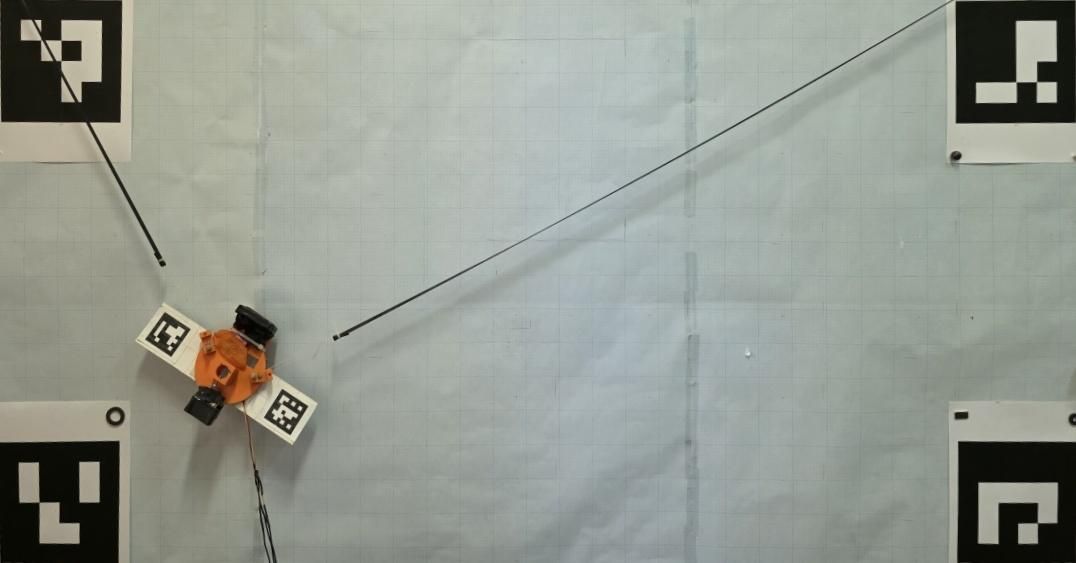robot: (182, 305, 276, 427)
